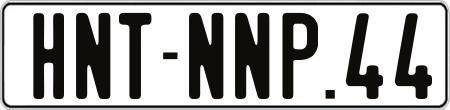4: (343, 10, 384, 99), (393, 11, 433, 97)
H: (30, 11, 63, 99)
N: (76, 12, 116, 101), (188, 11, 228, 100), (234, 10, 273, 96)
P: (282, 12, 321, 100)
T: (119, 11, 153, 99)
